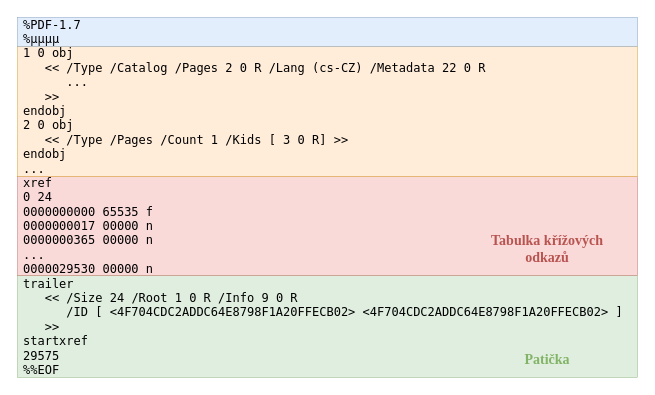
The diagram is 655 pixels wide and 395 high, and some of its shapes have lost their labels. The centre of each missing label's shape, as x and y in pixels:
"Hlavička" belongs at point (327, 31).
"Tělo" belongs at point (327, 111).
